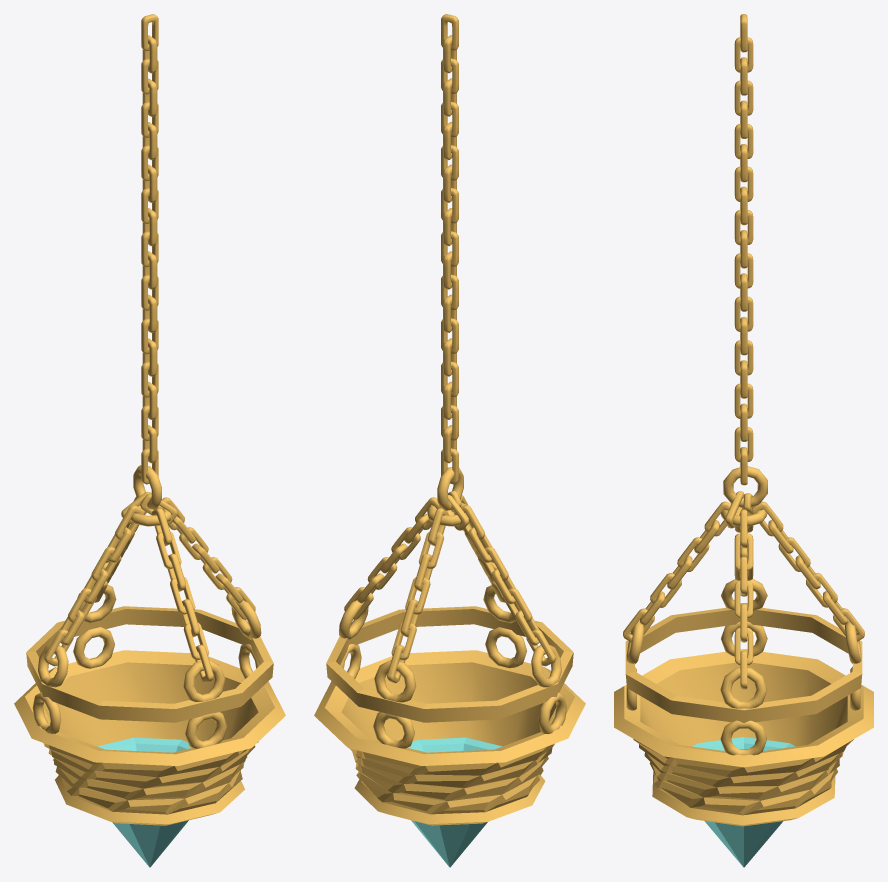
The model's file is M_MidHangingLantern.fbx.
3 views of the same model, side by side, from view 1: azimuth 30°, elevation 25°; view 2: azimuth 150°, elevation 25°; view 3: azimuth 270°, elevation 25° (orthographic).
Visible parts, largest first — view 1: HangingLantern, LanternRing, Crystal, LanternHook02, LanternHook05, LanternHook01, LanternHook08, LanternHook04, LanternHook10, LanternHook07, LanternHook06; view 2: HangingLantern, LanternRing, Crystal, LanternHook01, LanternHook06, LanternHook02, LanternHook08, LanternHook04, LanternHook07, LanternHook10, LanternHook05; view 3: HangingLantern, LanternRing, Crystal, LanternHook07, LanternHook03, LanternHook10, LanternHook04, LanternHook08.
Boxes of the visible parts, x1=… form: HangingLantern: x1=14, y1=650, x2=285, y2=825; LanternRing: x1=26, y1=606, x2=273, y2=722; Crystal: x1=97, y1=737, x2=191, y2=867; LanternHook02: x1=73, y1=627, x2=114, y2=668; LanternHook05: x1=183, y1=660, x2=225, y2=701; LanternHook01: x1=185, y1=712, x2=226, y2=748; LanternHook08: x1=38, y1=644, x2=68, y2=687; LanternHook04: x1=32, y1=692, x2=61, y2=733; LanternHook10: x1=133, y1=465, x2=161, y2=509; LanternHook07: x1=231, y1=600, x2=261, y2=639; LanternHook06: x1=77, y1=585, x2=116, y2=623; HangingLantern: x1=314, y1=650, x2=585, y2=825; LanternRing: x1=326, y1=606, x2=573, y2=722; Crystal: x1=408, y1=737, x2=502, y2=867; LanternHook01: x1=485, y1=627, x2=526, y2=668; LanternHook06: x1=374, y1=660, x2=416, y2=702; LanternHook02: x1=373, y1=712, x2=414, y2=748; LanternHook08: x1=531, y1=645, x2=561, y2=687; LanternHook04: x1=538, y1=692, x2=566, y2=733; LanternHook07: x1=339, y1=600, x2=368, y2=639; LanternHook10: x1=437, y1=467, x2=463, y2=510; LanternHook05: x1=483, y1=585, x2=520, y2=623; HangingLantern: x1=614, y1=651, x2=873, y2=826; LanternRing: x1=625, y1=607, x2=862, y2=722; Crystal: x1=693, y1=737, x2=794, y2=867; LanternHook07: x1=720, y1=667, x2=767, y2=708; LanternHook03: x1=720, y1=720, x2=766, y2=755; LanternHook10: x1=723, y1=466, x2=767, y2=507; LanternHook04: x1=721, y1=621, x2=767, y2=656; LanternHook08: x1=721, y1=579, x2=767, y2=610.
Bounding box in the file's own units: 93.17 × 321 × 88.61.
